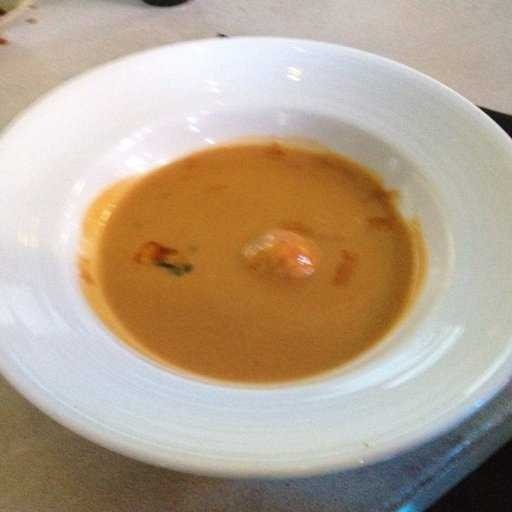soup: (63, 92, 454, 436)
